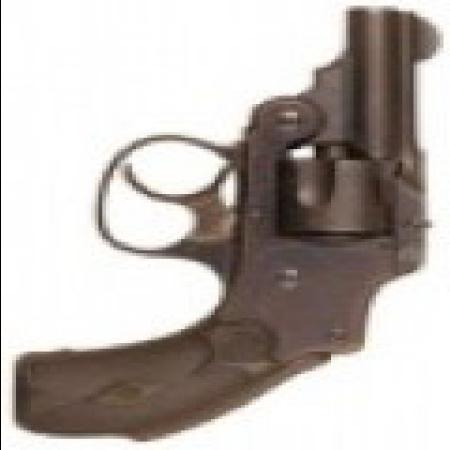Pistol: (8, 2, 446, 430)
